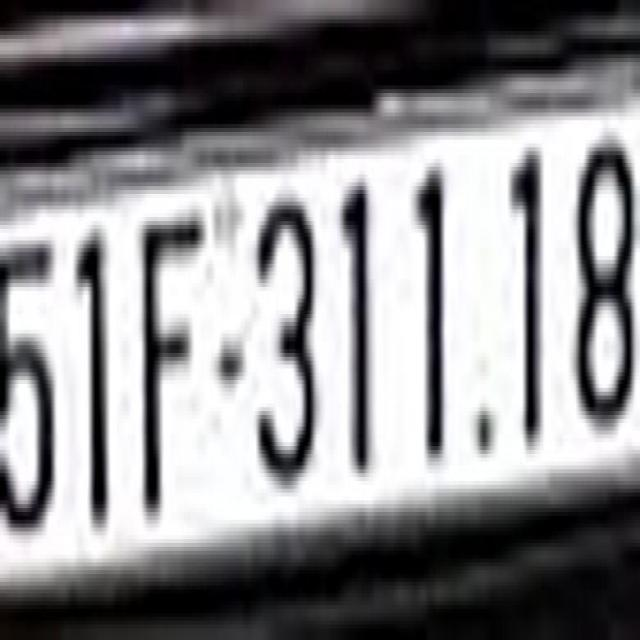1: (76, 217, 111, 520), (337, 178, 372, 474), (414, 163, 446, 446), (511, 155, 543, 419)
3: (258, 194, 312, 481)
5: (1, 233, 55, 531)
8: (575, 144, 635, 430)
F: (140, 202, 205, 524)
